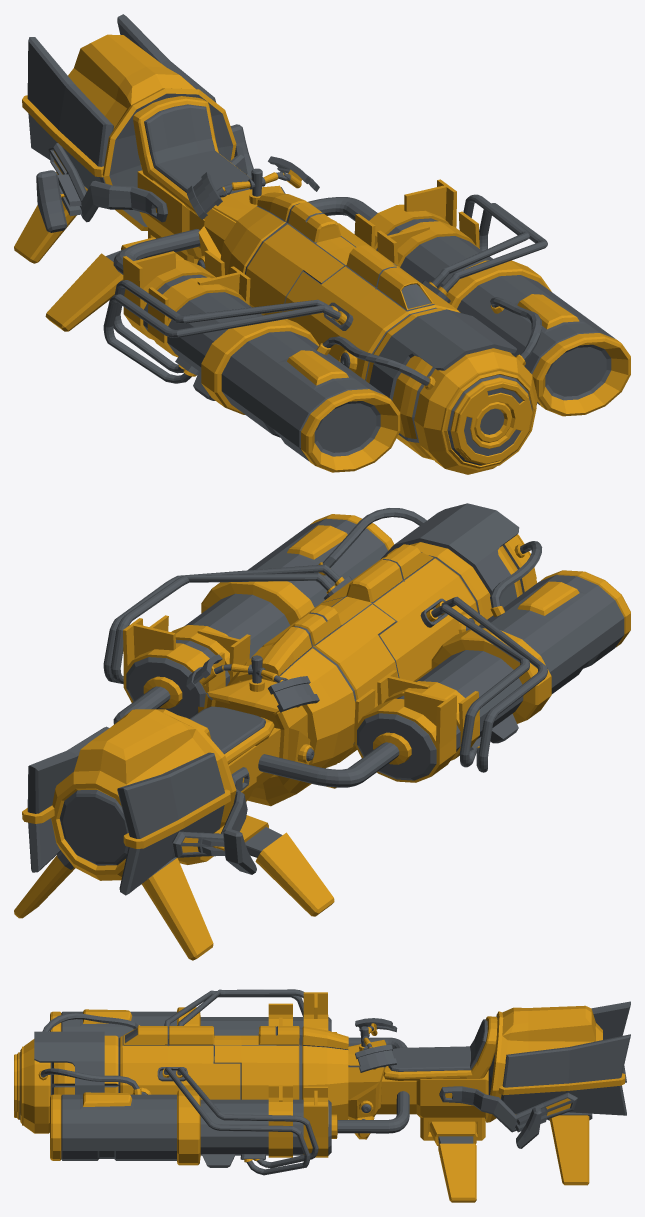
The model's file is Personal_Vehicle_04_Yellow.fbx.
3 renders of one model, top to bottom at view 1: azimuth 30°, elevation 25°; view 2: azimuth 150°, elevation 25°; view 3: azimuth 270°, elevation 25°, orthographic. The views are drawn at different scales.
Visible parts, largest first — view 1: Personal_Vehicle_04_Yellow; view 2: Personal_Vehicle_04_Yellow; view 3: Personal_Vehicle_04_Yellow.
Part boxes in pixels (x1,y1,x2,y2): Personal_Vehicle_04_Yellow: [14, 14, 630, 474]; Personal_Vehicle_04_Yellow: [14, 503, 630, 960]; Personal_Vehicle_04_Yellow: [14, 989, 630, 1202].
Bounding box in the file's own units: 233 × 115 × 439.
Materials: 2 (2 with a texture image).
